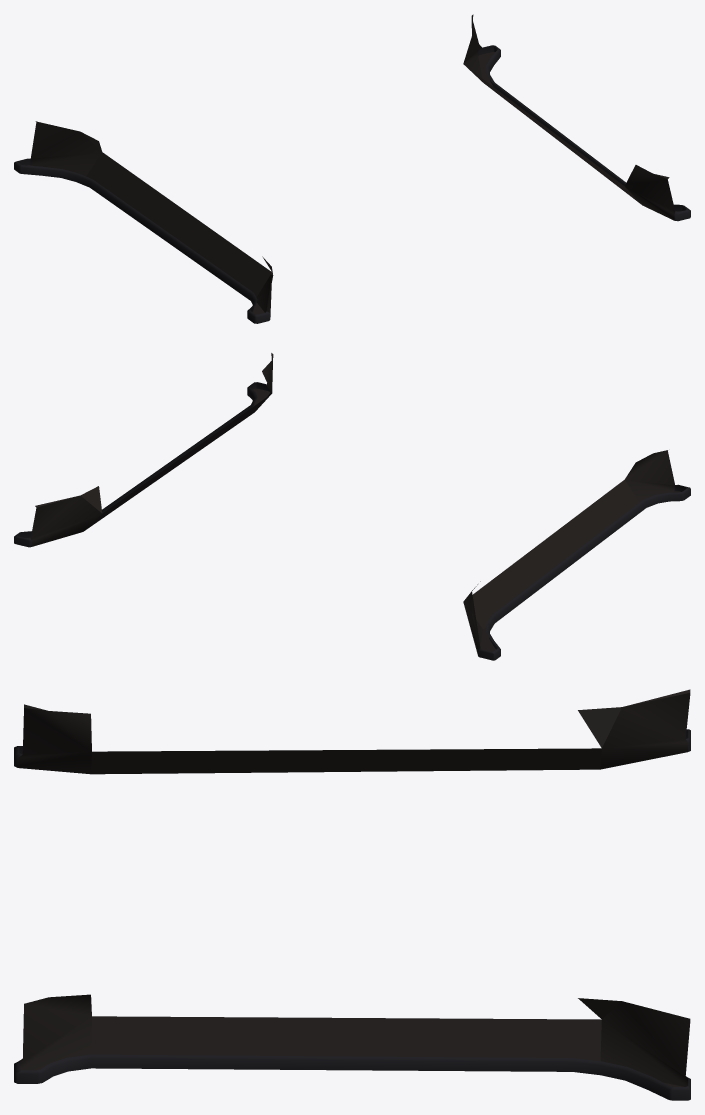
The model's file is RWB_Skirt_03_Trim.fbx.
The picture shows the model from 3 angles, top to bottom: view 1: azimuth 30°, elevation 25°; view 2: azimuth 150°, elevation 25°; view 3: azimuth 270°, elevation 25°; orthographic projection. The views are drawn at different scales.
Visible parts, largest first — view 1: RWB_Skirt_03_Trim; view 2: RWB_Skirt_03_Trim; view 3: RWB_Skirt_03_Trim.
Boxes of the visible parts, x1,y1,x2,y2 form: RWB_Skirt_03_Trim: [14, 14, 690, 323]; RWB_Skirt_03_Trim: [14, 353, 690, 660]; RWB_Skirt_03_Trim: [14, 689, 690, 1100].
Bounding box in the file's own units: 192 × 16.28 × 152.
